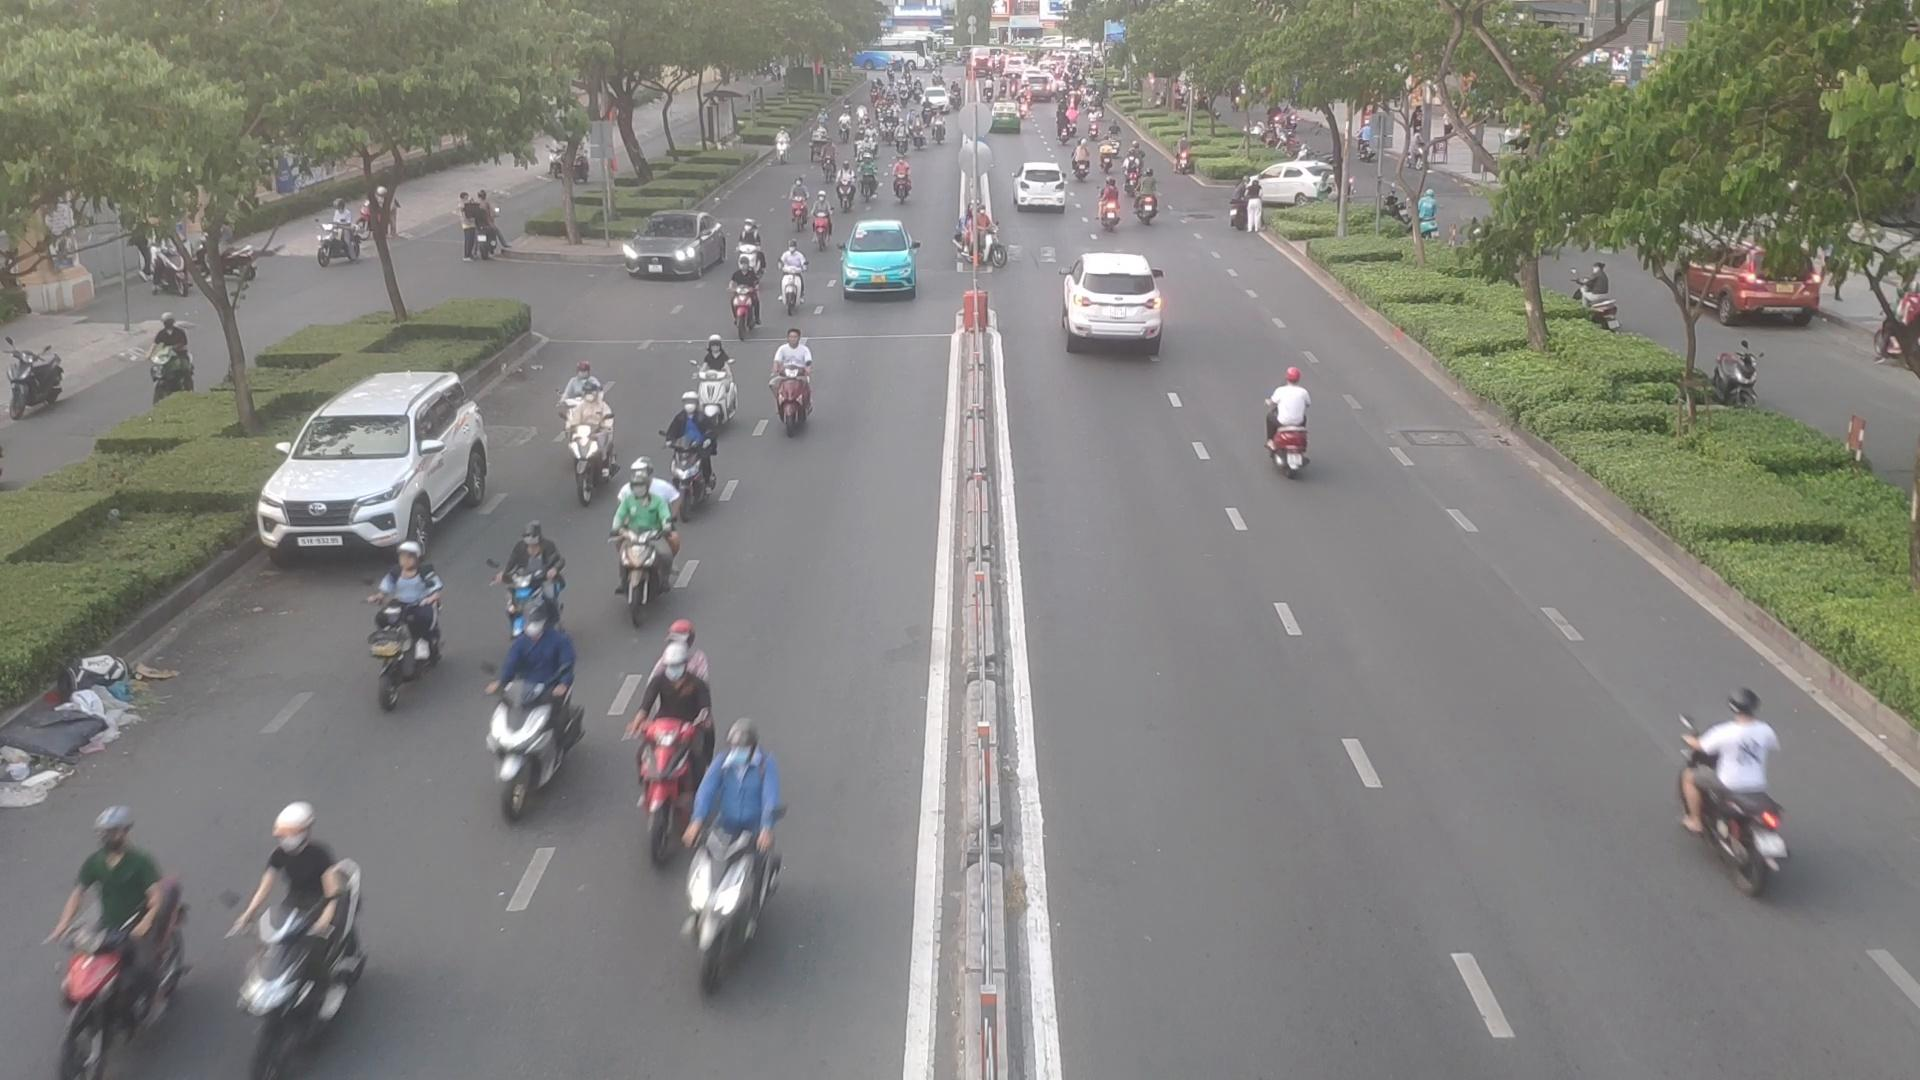car: (260, 372, 496, 564), (1062, 253, 1163, 349), (621, 215, 731, 284), (837, 223, 915, 301), (1242, 160, 1338, 212), (1015, 161, 1069, 208)
motorbike: (32, 804, 187, 1064), (663, 713, 803, 976), (248, 803, 367, 1072), (1668, 673, 1792, 895), (636, 618, 738, 848), (500, 626, 582, 802), (363, 549, 444, 713), (487, 516, 574, 624), (628, 462, 679, 628), (1258, 359, 1325, 473), (764, 323, 829, 429), (671, 393, 729, 495), (563, 378, 612, 498), (688, 338, 735, 425), (556, 351, 591, 431), (728, 264, 761, 327), (1131, 175, 1163, 236), (732, 214, 761, 276), (811, 193, 839, 251), (969, 214, 1001, 262), (787, 248, 808, 309), (857, 152, 880, 204), (889, 157, 913, 204), (836, 160, 857, 208), (1098, 181, 1117, 235), (789, 171, 804, 225), (1121, 156, 1139, 195)
